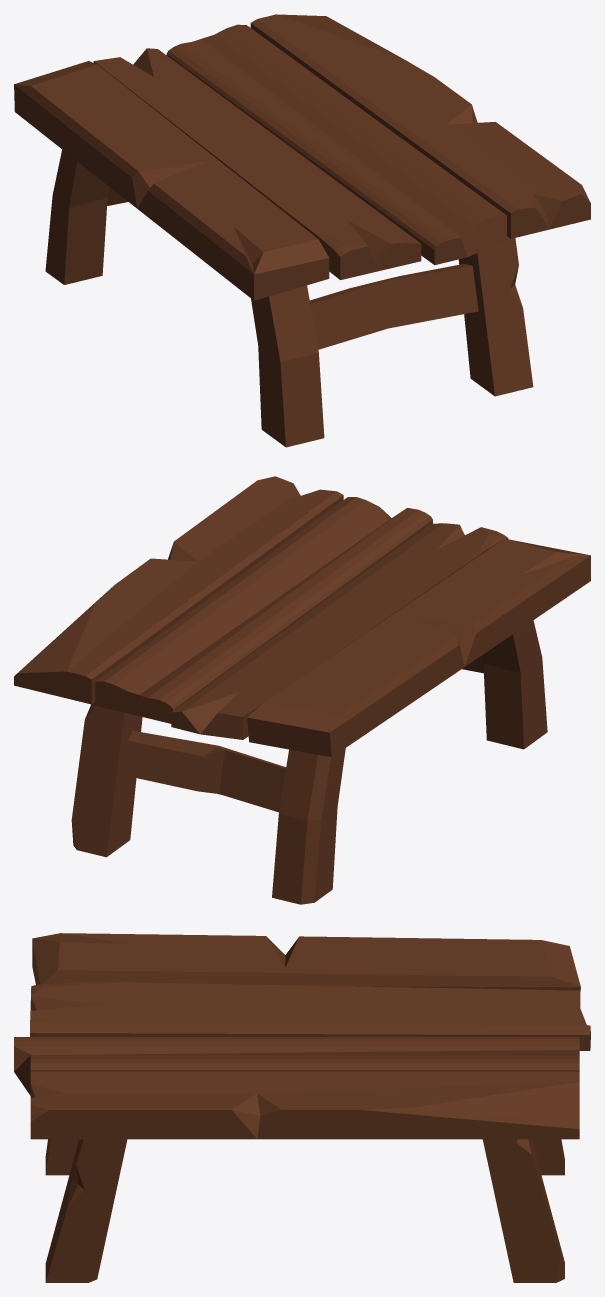
The model's file is Table.fbx.
The picture shows the model from 3 angles, top to bottom: view 1: azimuth 30°, elevation 25°; view 2: azimuth 150°, elevation 25°; view 3: azimuth 270°, elevation 25°; orthographic projection. The views are drawn at different scales.
Parts seen in each view (by area): view 1: Cube.003, Cube.001, Cube, Cube.002, Cube.007, Cube.008, Cube.004, Cube.006; view 2: Cube.003, Cube.001, Cube, Cube.002, Cube.006, Cube.005, Cube.009, Cube.007; view 3: Cube, Cube.002, Cube.003, Cube.001, Cube.005, Cube.004, Cube.007, Cube.006.
Part boxes in pixels (bbox=[...]): Cube.003: bbox=[14, 61, 329, 300]; Cube.001: bbox=[166, 24, 506, 265]; Cube: bbox=[250, 14, 590, 238]; Cube.002: bbox=[93, 48, 421, 279]; Cube.007: bbox=[251, 285, 324, 447]; Cube.008: bbox=[309, 264, 478, 349]; Cube.004: bbox=[458, 236, 533, 396]; Cube.006: bbox=[45, 149, 109, 284]; Cube.003: bbox=[247, 538, 590, 757]; Cube.001: bbox=[95, 497, 432, 723]; Cube: bbox=[14, 476, 343, 704]; Cube.002: bbox=[171, 523, 508, 739]; Cube.006: bbox=[272, 748, 345, 904]; Cube.005: bbox=[71, 702, 142, 857]; Cube.009: bbox=[122, 730, 286, 812]; Cube.007: bbox=[482, 620, 547, 749]; Cube: bbox=[30, 1071, 579, 1139]; Cube.002: bbox=[30, 982, 590, 1050]; Cube.003: bbox=[32, 933, 580, 991]; Cube.001: bbox=[14, 1037, 579, 1095]; Cube.005: bbox=[482, 1139, 564, 1282]; Cube.004: bbox=[45, 1139, 127, 1282]; Cube.007: bbox=[45, 1139, 78, 1175]; Cube.006: bbox=[532, 1139, 564, 1175].
Bounding box in the file's own units: 672 × 372 × 948.
